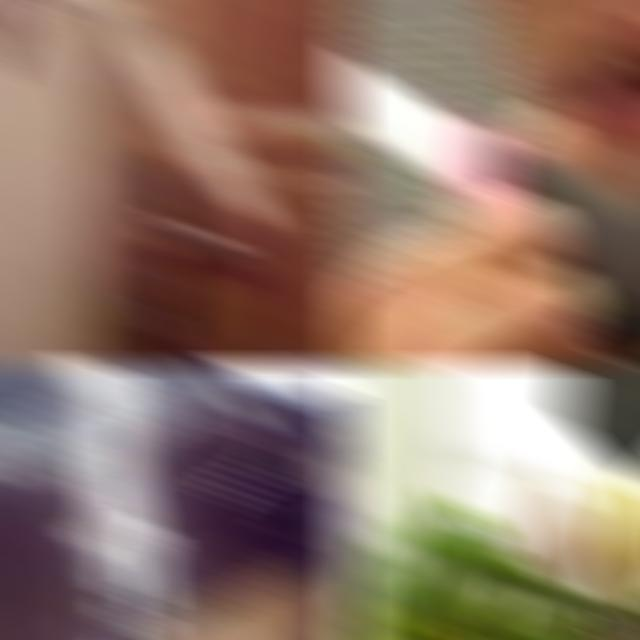Knife: (334, 48, 640, 368), (53, 360, 190, 640), (481, 360, 640, 557)
Knife_Handle: (0, 0, 282, 228)
